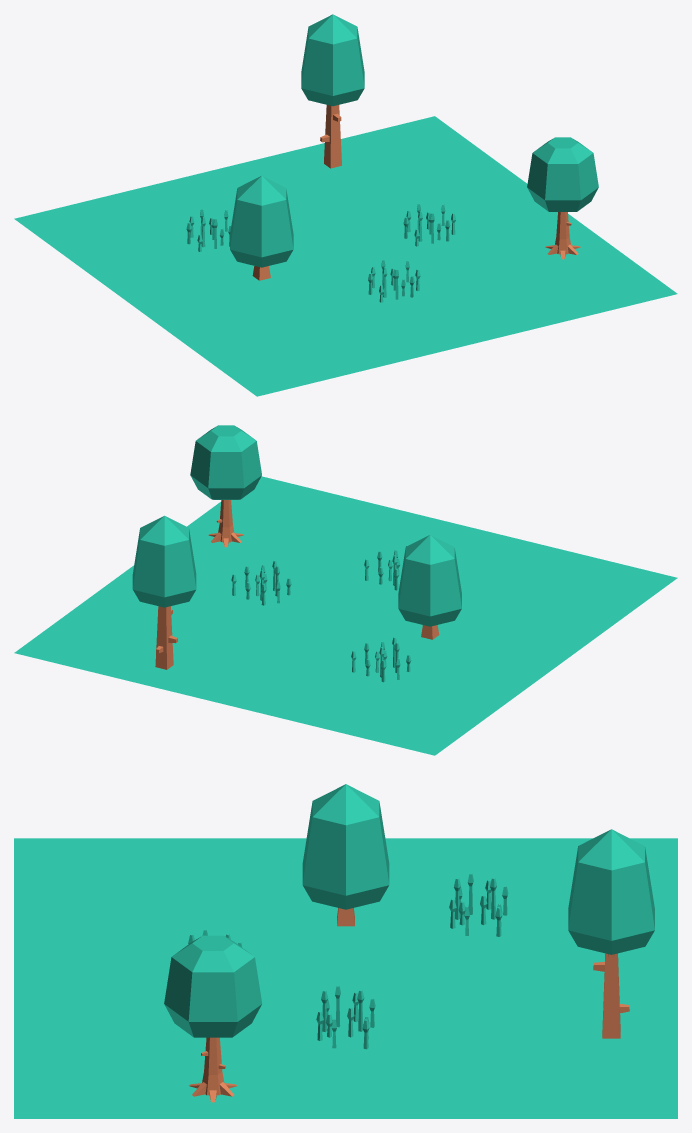
Rendered from test_ground.fbx.
3 views of the same model, one above another, from view 1: azimuth 30°, elevation 25°; view 2: azimuth 150°, elevation 25°; view 3: azimuth 270°, elevation 25° (orthographic). The views are drawn at different scales.
Visible parts, largest first — view 1: ground_grass (×25), tree_default, tree_oak, tree_fat, crops_wheatStageA (×3); view 2: ground_grass (×25), tree_default, tree_oak, tree_fat, crops_wheatStageA (×3); view 3: ground_grass (×25), tree_default, tree_oak, tree_fat, crops_wheatStageA (×2).
Boxes of the visible parts, x1,y1,x2,y2 form: ground_grass (×25): (14,116,677,396); tree_default: (301,14,364,168); tree_oak: (527,137,598,259); tree_fat: (230,175,293,280); crops_wheatStageA (×3): (186,203,455,302); ground_grass (×25): (14,476,677,755); tree_default: (132,515,196,669); tree_oak: (190,425,261,547); tree_fat: (398,535,461,639); crops_wheatStageA (×3): (231,545,411,682); ground_grass (×25): (14,838,677,1118); tree_default: (568,829,654,1038); tree_oak: (164,935,262,1102); tree_fat: (302,784,389,926); crops_wheatStageA (×2): (316,873,508,1049).
Bounding box in the file's own units: 200 × 68.32 × 200.
